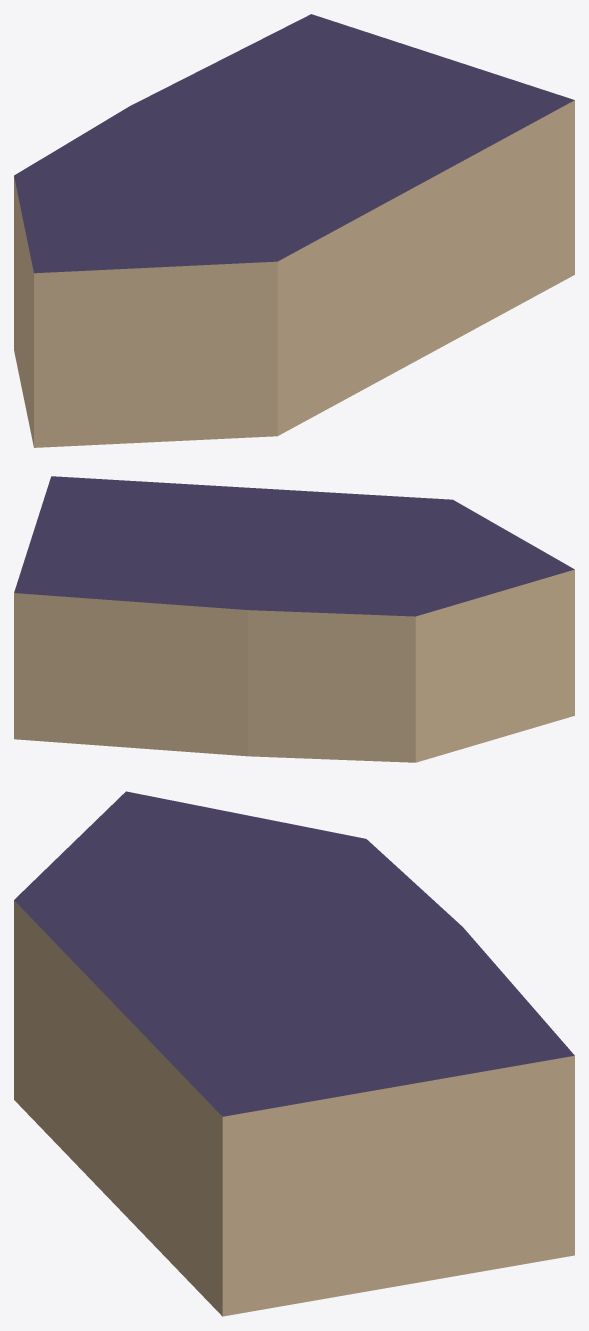
3 renders of one model, top to bottom at view 1: azimuth 30°, elevation 25°; view 2: azimuth 150°, elevation 25°; view 3: azimuth 270°, elevation 25°, orthographic. The views are drawn at different scales.
Parts seen in each view (by area): view 1: campus/b-059-0; view 2: campus/b-059-0; view 3: campus/b-059-0.
Part boxes in pixels (bbox=[...]): campus/b-059-0: bbox=[14, 14, 574, 447]; campus/b-059-0: bbox=[14, 476, 574, 762]; campus/b-059-0: bbox=[14, 791, 574, 1316].
Bounding box in the file's own units: 10.48 × 3 × 7.64.
